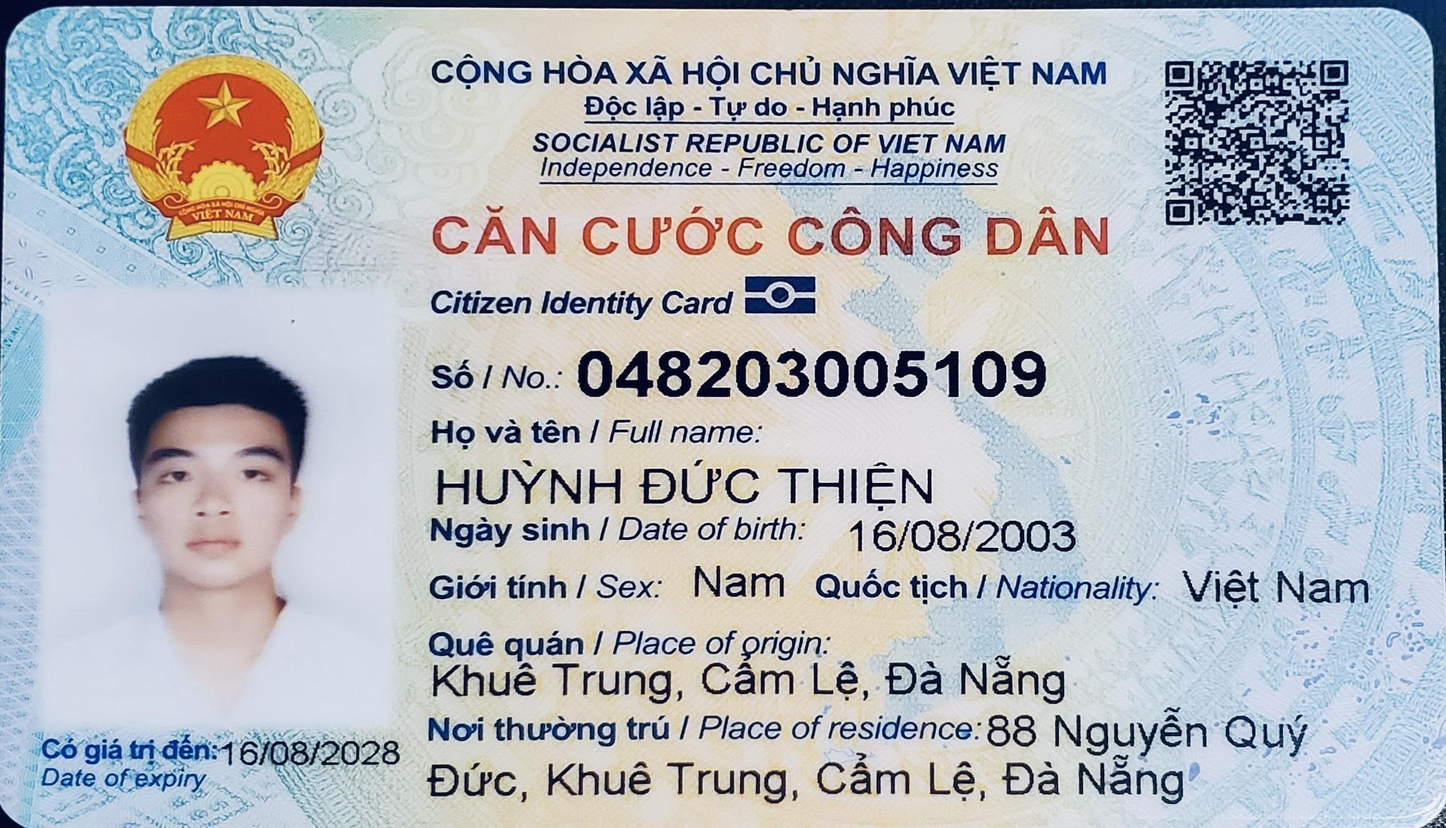ID: (566, 328, 1061, 408)
birth: (833, 507, 1094, 567)
name: (425, 457, 966, 516)
place: (409, 654, 1084, 709)
residence: (413, 751, 1199, 813), (978, 705, 1316, 762)
